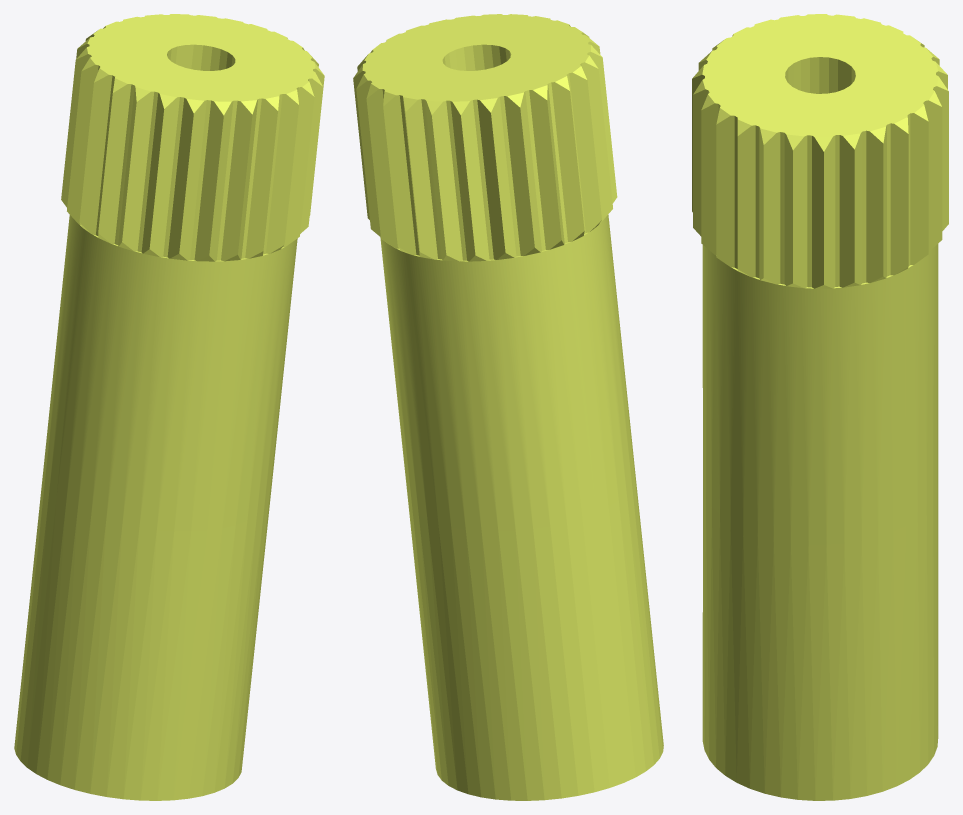
The model's file is UMIRobot_UMIRobot_link_3_vis_2.dae.
3 views of the same model, side by side, from view 1: azimuth 30°, elevation 25°; view 2: azimuth 150°, elevation 25°; view 3: azimuth 270°, elevation 25° (orthographic). The views are drawn at different scales.
Parts seen in each view (by area): view 1: node; view 2: node; view 3: node.
Part boxes in pixels (x1,y1,x2,y2): node: (14, 14, 324, 800); node: (353, 14, 663, 800); node: (692, 14, 948, 800).
Bounding box in the file's own units: 0.00743 × 0.018 × 0.00577.
